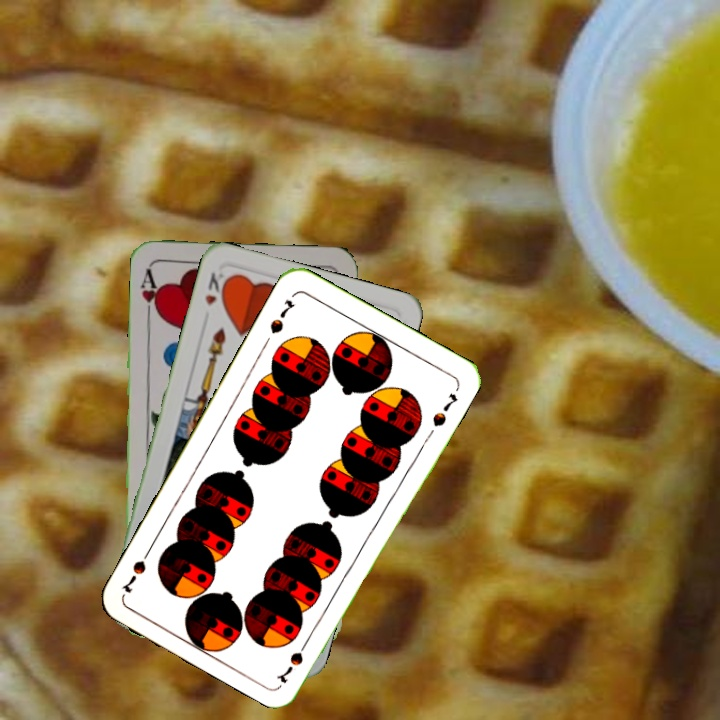HA: (136, 264, 163, 323)
HK: (200, 268, 232, 308)
S7: (275, 632, 313, 686), (265, 295, 298, 337)
